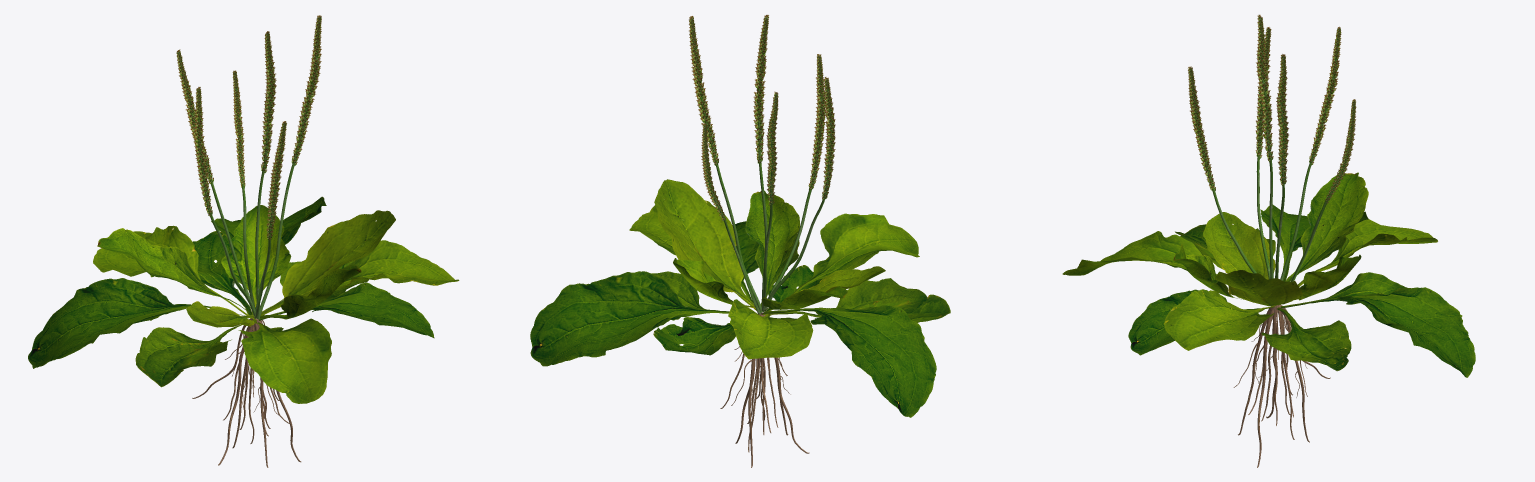
File: cheqian.fbx
The picture shows the model from 3 angles, left to right: view 1: azimuth 30°, elevation 25°; view 2: azimuth 150°, elevation 25°; view 3: azimuth 270°, elevation 25°; orthographic projection.
Visible parts, largest first — view 1: default001; view 2: default001; view 3: default001.
Boxes of the visible parts, x1,y1,x2,y2 form: default001: (28, 15, 459, 467); default001: (530, 14, 950, 467); default001: (1062, 14, 1475, 467).
Size of the model in its own units: 0.4404 by 0.4563 by 0.4801.
4 materials, 4 textured.
